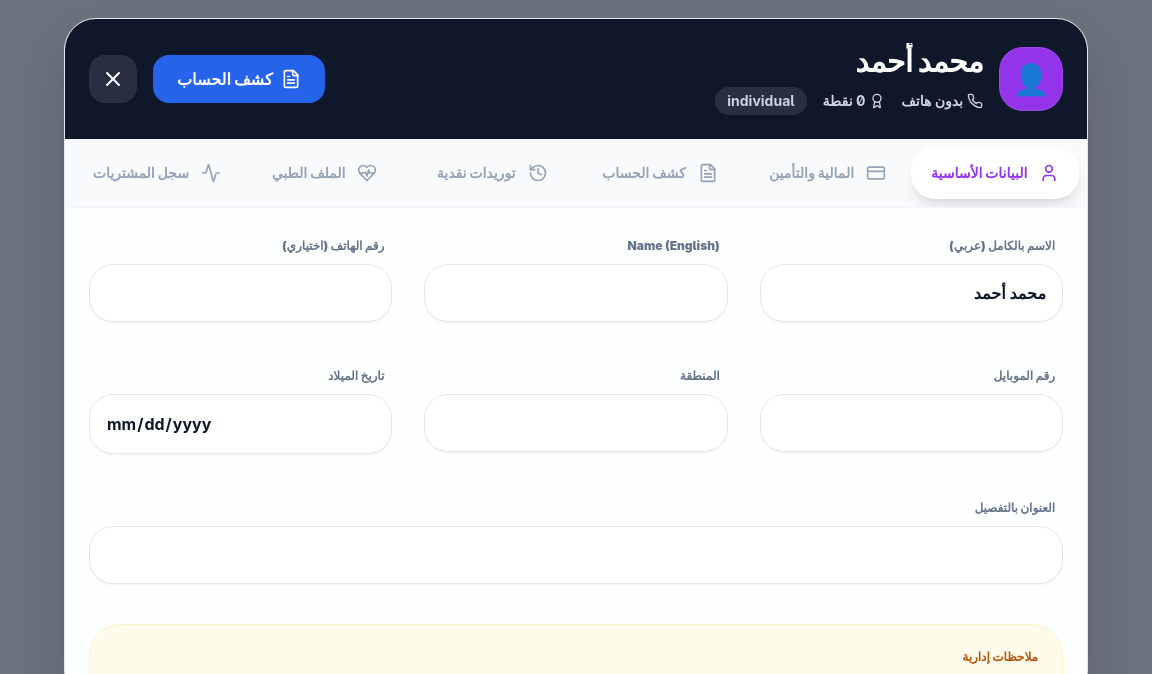
it: renders customer profile payments tab with payments and refund indicators
Check: the field showing "محمد أحمد" is shown, box [760,264,1063,322]
# Switch to payments tab
Click the button "توريدات نقدية": (492, 173) [408,147,576,199]
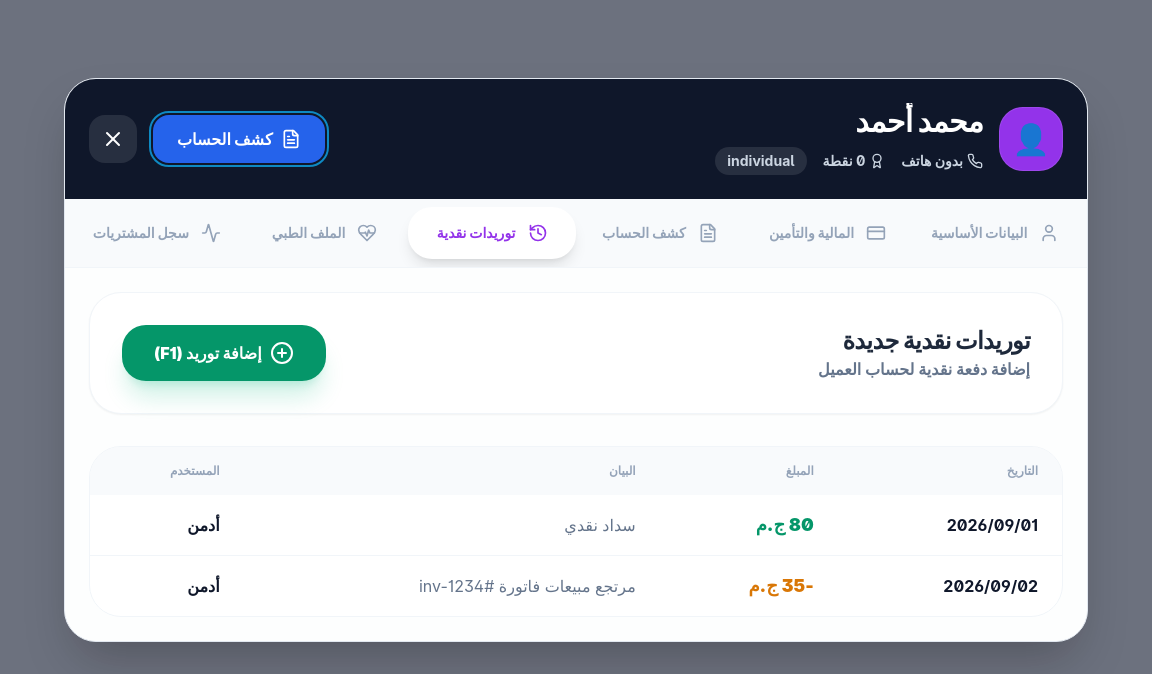
Check: the text "80 ج.م" is shown, box [660,495,838,556]
Check: the text "سداد نقدي" is shown, box [244,495,660,556]
Check: the text "-35 ج.م" is shown, box [660,556,838,616]
